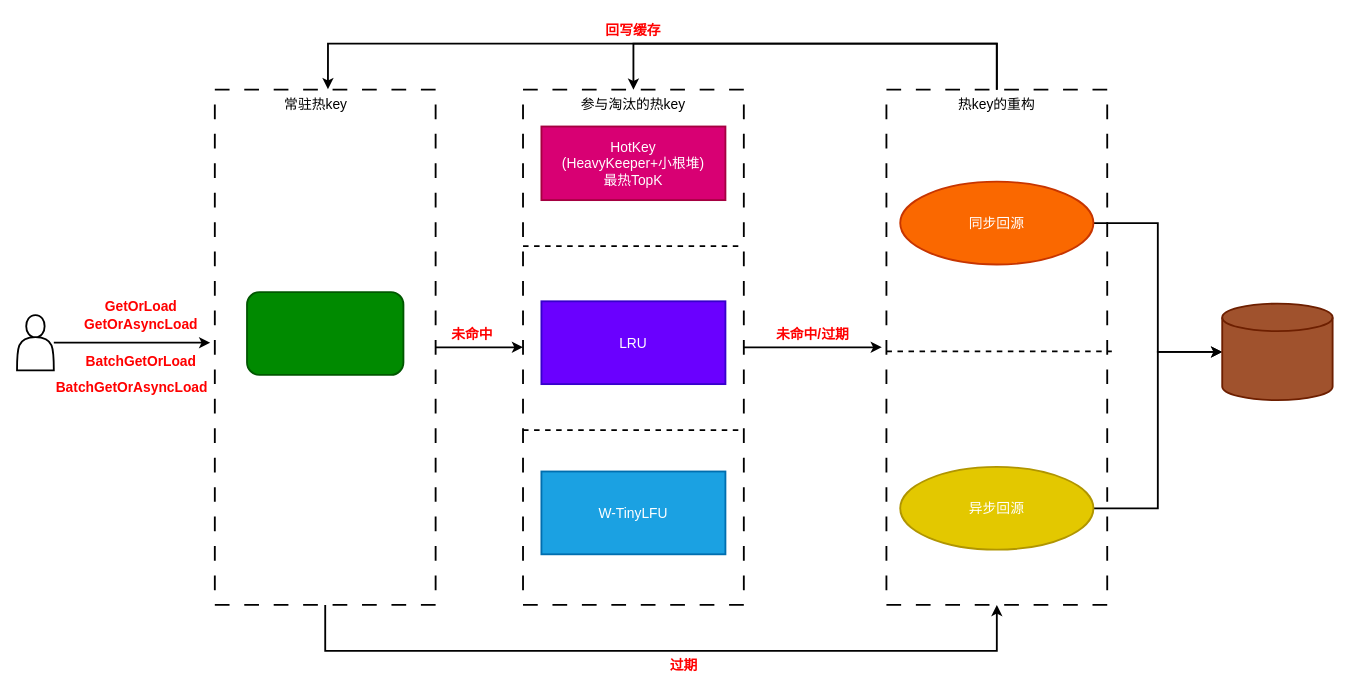
The diagram is 1349 pixels wide and 694 high, and some of its shapes have lost their labels. Here are the shapes that lost their labels. From the top down, the centre of each, then its label:
the point at 325,333: 白名单(concurrent-map)
the point at 1277,351: redis/mysql/泰山
